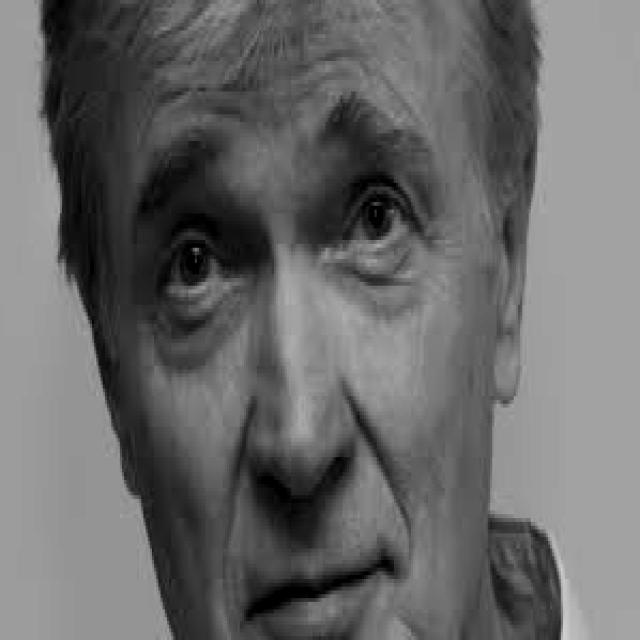normal_face: (61, 29, 554, 640)
